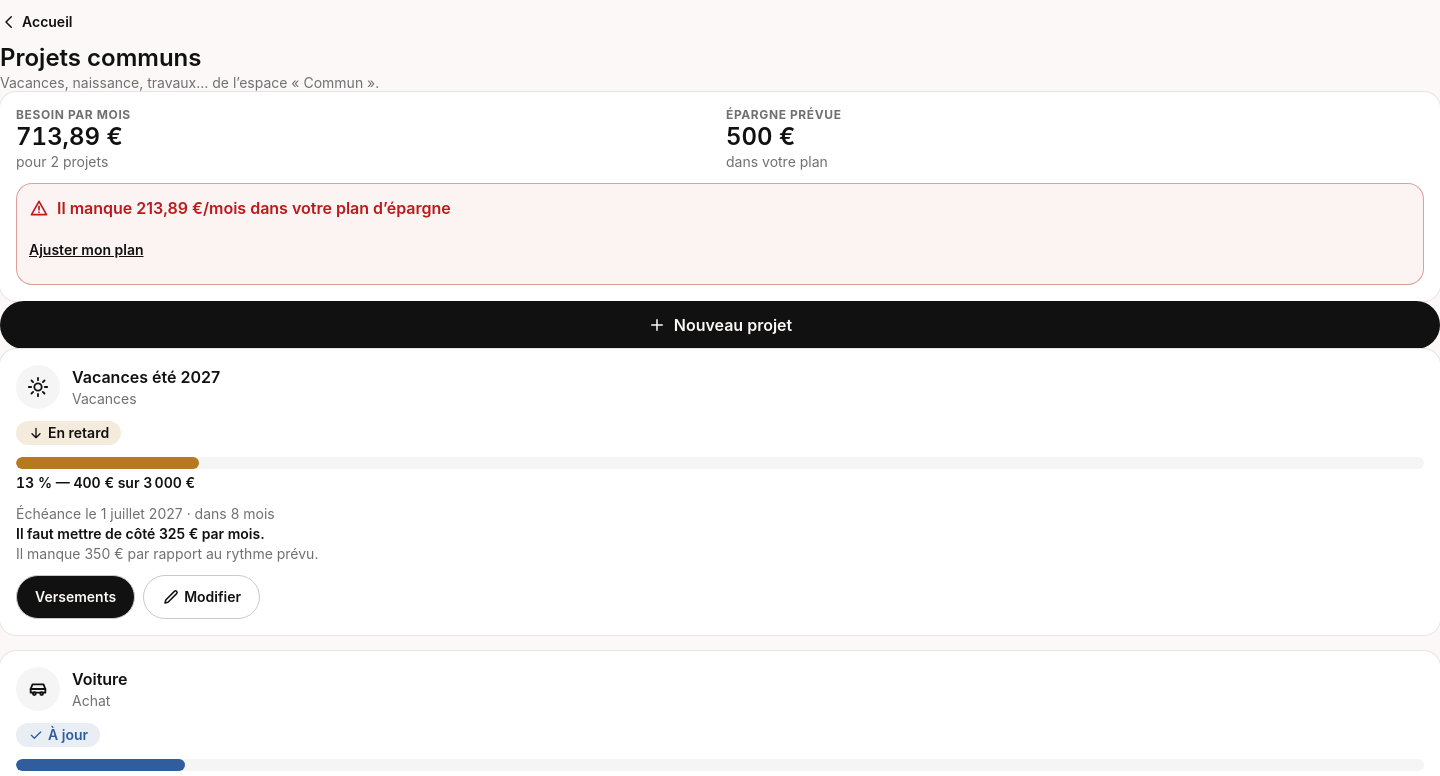
Test: ProjetsPage › detail and deposits › recaps the project and the calculation
What coordinates should you click on to do the following:
click the button "Versements"
I would click on:
 (76, 597)
Its box is left=16, top=575, right=135, bottom=619.
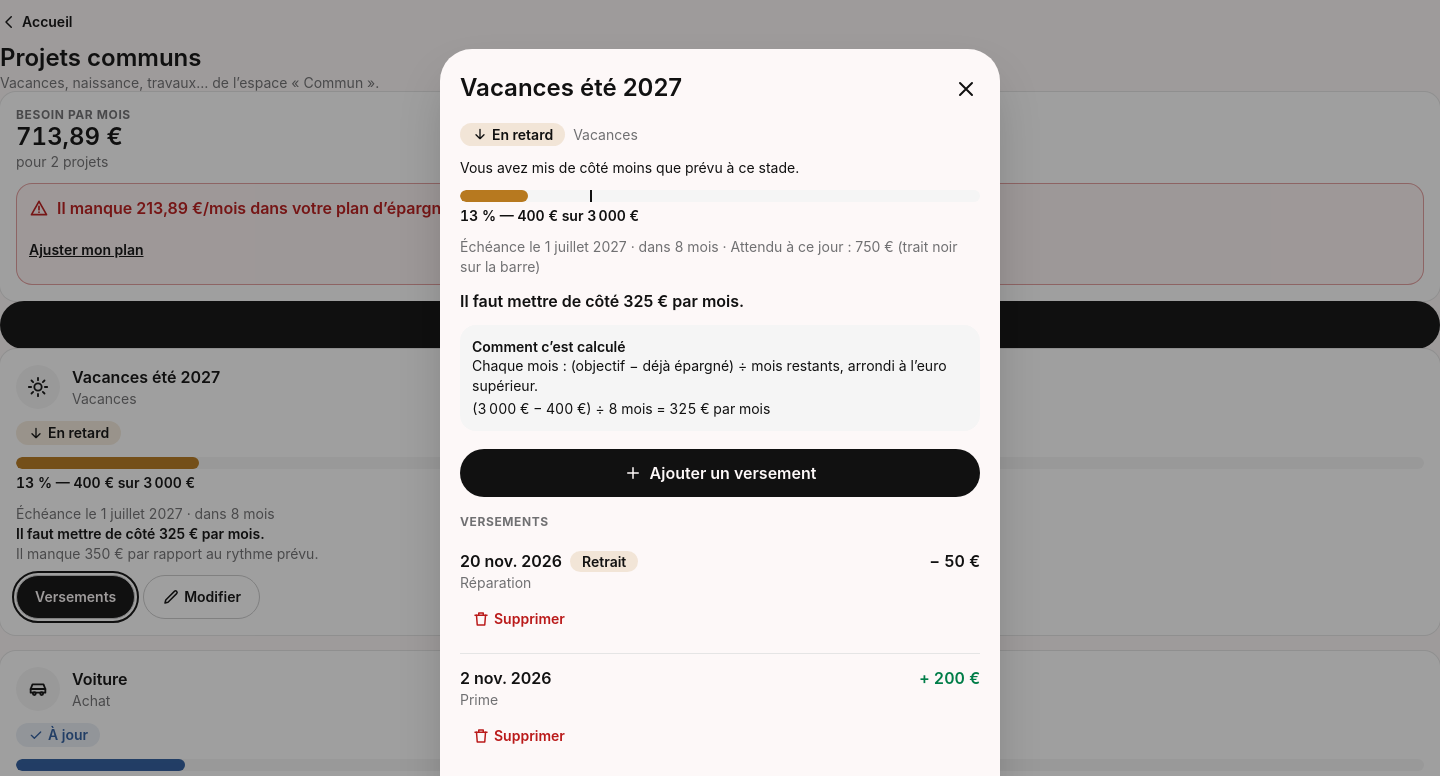
Result: the text "En retard" is shown at left=460, top=123, right=565, bottom=146
Result: the dialog "Vacances été 2027" shows "13 % — 400 € sur 3 000 €" at left=460, top=207, right=639, bottom=224
Result: the dialog "Vacances été 2027" shows "Attendu à ce jour : 750 €" at left=460, top=238, right=958, bottom=275
